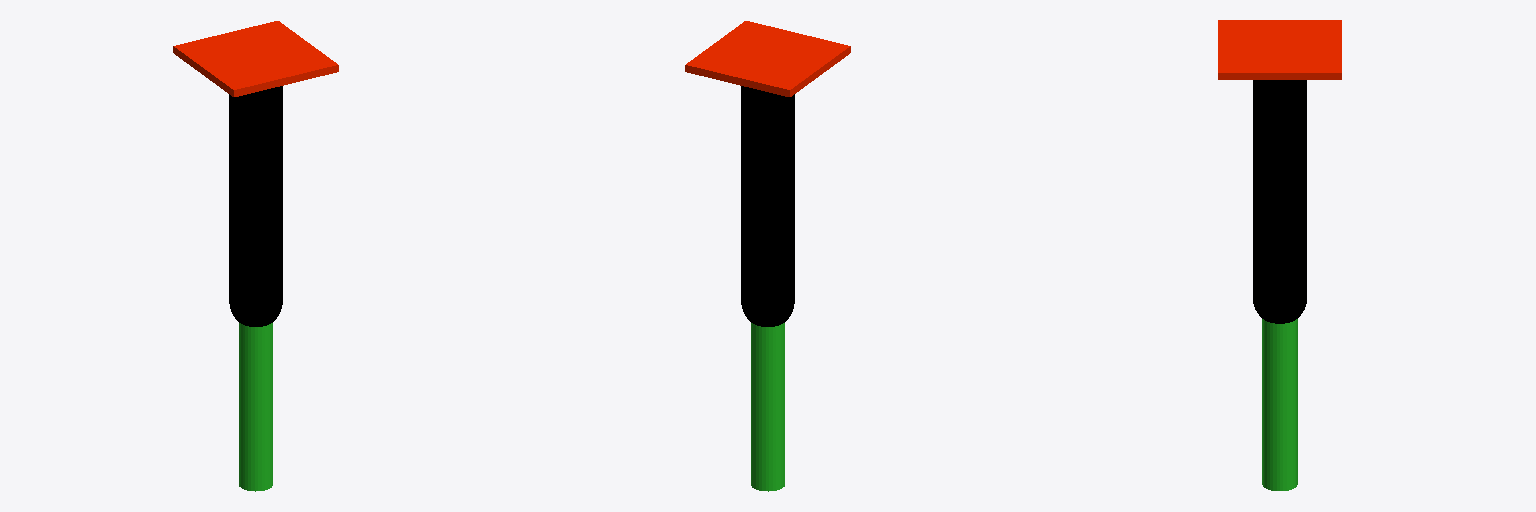
URDF robot description (x500_base):
<?xml version="1.0" ?>
<!-- =================================================================================== -->
<!-- |    This document was autogenerated by xacro from robot.urdf.xacro               | -->
<!-- |    EDITING THIS FILE BY HAND IS NOT RECOMMENDED                                 | -->
<!-- =================================================================================== -->
<robot name="x500_base">
  <!--................................ INERTIA MATRICES .............................. -->
  <material name="black">
    <color rgba="0.0 0.0 0.0 1.0"/>
  </material>
  <material name="blue">
    <color rgba="0.0 0.0 0.8 1.0"/>
  </material>
  <material name="green">
    <color rgba="0.0 0.8 0.0 1.0"/>
  </material>
  <material name="yellow">
    <color rgba="1.0 1.0 0.0 1.0"/>
  </material>
  <material name="dark_grey">
    <color rgba="0.2 0.2 0.2 1.0"/>
  </material>
  <material name="orange">
    <color rgba="1.0 0.2 0.0 1.0"/>
  </material>
  <material name="brown">
    <color rgba="0.5450980392156862 0.27058823529411763 0.07450980392156863 1.0"/>
  </material>
  <material name="red">
    <color rgba="0.8 0.0 0.0 1.0"/>
  </material>
  <material name="turquoise">
    <color rgba="0.25098039215686274 0.8784313725490196 0.8156862745098039 1.0"/>
  </material>
  <material name="purple">
    <color rgba="0.5019607843137255 0.0 0.5019607843137255 1.0"/>
  </material>
  <material name="white">
    <color rgba="1.0 1.0 1.0 1.0"/>
  </material>
  <material name="aluminium">
    <color rgba="0.5 0.5 0.5 1"/>
  </material>
  <material name="plastic">
    <color rgba="0.1 0.1 0.1 0.7"/>
  </material>
  <!-- Macro to declare ros2_control system -->
  <link name="base_link">
    <inertial>
      <mass value="2.0"/>
      <inertia ixx="0.02166666666666667" ixy="0.0" ixz="0.0" iyy="0.02166666666666667" iyz="0.0" izz="0.04000000000000001"/>
    </inertial>
    <visual name="base_link_visual">
      <origin rpy="0.0 0.0 3.141592654" xyz="0.0 0.0 0.025"/>
      <geometry>
        <mesh filename="package://darm/urdf/x500_base/meshes/NXP-HGD-CF.dae" scale="1 1 1"/>
      </geometry>
    </visual>
    <visual name="5010_motor_base_0">
      <origin rpy="0.0 0.0 -0.45" xyz="0.174 0.174 0.032"/>
      <geometry>
        <mesh filename="package://darm/urdf/x500_base/meshes/5010Base.dae" scale="1 1 1"/>
      </geometry>
    </visual>
    <visual name="5010_motor_base_1">
      <origin rpy="0.0 0.0 -0.45" xyz="-0.174 0.174 0.032"/>
      <geometry>
        <mesh filename="package://darm/urdf/x500_base/meshes/5010Base.dae" scale="1 1 1"/>
      </geometry>
    </visual>
    <visual name="5010_motor_base_2">
      <origin rpy="0.0 0.0 -0.45" xyz="0.174 -0.174 0.032"/>
      <geometry>
        <mesh filename="package://darm/urdf/x500_base/meshes/5010Base.dae" scale="1 1 1"/>
      </geometry>
    </visual>
    <visual name="5010_motor_base_3">
      <origin rpy="0.0 0.0 -0.45" xyz="-0.174 -0.174 0.032"/>
      <geometry>
        <mesh filename="package://darm/urdf/x500_base/meshes/5010Base.dae" scale="1 1 1"/>
      </geometry>
    </visual>
    <collision name="base_link_collision_0">
      <origin rpy="0.0 0.0 0.0" xyz="0.0 0.0 0.007"/>
      <geometry>
        <box size="0.35355339059327373 0.35355339059327373 0.05"/>
      </geometry>
    </collision>
    <collision name="base_link_collision_1">
      <origin rpy="-0.35 0.0 0.0" xyz="0.0 -0.098 -0.123"/>
      <geometry>
        <box size="0.015 0.015 0.21"/>
      </geometry>
    </collision>
    <collision name="base_link_collision_2">
      <origin rpy="0.35 0.0 0.0" xyz="0.0 0.098 -0.123"/>
      <geometry>
        <box size="0.015 0.015 0.21"/>
      </geometry>
    </collision>
    <collision name="base_link_collision_3">
      <origin rpy="0.0 0.0 0.0" xyz="0.0 -0.132 -0.2195"/>
      <geometry>
        <box size="0.25 0.015 0.015"/>
      </geometry>
    </collision>
    <collision name="base_link_collision_4">
      <origin rpy="0.0 0.0 0.0" xyz="0.0 0.132 -0.2195"/>
      <geometry>
        <box size="0.25 0.015 0.015"/>
      </geometry>
    </collision>
  </link>
  <!-- rotor links -->
  <link name="rotor_0">
    <inertial>
      <mass value="0.016076923076923075"/>
      <inertia ixx="3.8464910483993325e-07" ixy="0.0" ixz="0.0" iyy="2.6115851691700804e-05" iyz="0.0" izz="2.649858234714004e-05"/>
    </inertial>
    <visual name="rotor_0_visual">
      <origin rpy="0.0 0.0 0.0" xyz="-0.022 -0.14638461538461536 -0.016"/>
      <geometry>
        <mesh filename="package://darm/urdf/x500_base/meshes/1345_prop_ccw.stl" scale="0.8461538461538461 0.8461538461538461 0.8461538461538461"/>
      </geometry>
    </visual>
    <visual name="rotor_0_visual_motor_bell">
      <origin rpy="0.0 0.0 0.0" xyz="0.0 0.0 -0.032"/>
      <geometry>
        <mesh filename="package://darm/urdf/x500_base/meshes/5010Bell.dae" scale="1 1 1"/>
      </geometry>
    </visual>
    <collision name="rotor_0_collision">
      <origin rpy="0.0 0.0 0.0" xyz="0.0 0.0 0.0"/>
      <geometry>
        <box size="0.2792307692307692 0.016923076923076923 0.0008461538461538462"/>
      </geometry>
    </collision>
  </link>
  <link name="rotor_1">
    <inertial>
      <mass value="0.016076923076923075"/>
      <inertia ixx="3.8464910483993325e-07" ixy="0.0" ixz="0.0" iyy="2.6115851691700804e-05" iyz="0.0" izz="2.649858234714004e-05"/>
    </inertial>
    <visual name="rotor_1_visual">
      <origin rpy="0.0 0.0 0.0" xyz="-0.022 -0.14638461538461536 -0.016"/>
      <geometry>
        <mesh filename="package://darm/urdf/x500_base/meshes/1345_prop_ccw.stl" scale="0.8461538461538461 0.8461538461538461 0.8461538461538461"/>
      </geometry>
    </visual>
    <visual name="rotor_1_visual_motor_top">
      <origin rpy="0.0 0.0 0.0" xyz="0.0 0.0 -0.032"/>
      <geometry>
        <mesh filename="package://darm/urdf/x500_base/meshes/5010Bell.dae" scale="1 1 1"/>
      </geometry>
    </visual>
    <collision name="rotor_1_collision">
      <origin rpy="0.0 0.0 0.0" xyz="0.0 0.0 0.0"/>
      <geometry>
        <box size="0.2792307692307692 0.016923076923076923 0.0008461538461538462"/>
      </geometry>
    </collision>
  </link>
  <link name="rotor_2">
    <inertial>
      <mass value="0.016076923076923075"/>
      <inertia ixx="3.8464910483993325e-07" ixy="0.0" ixz="0.0" iyy="2.6115851691700804e-05" iyz="0.0" izz="2.649858234714004e-05"/>
    </inertial>
    <visual name="rotor_2_visual">
      <origin rpy="0.0 0.0 0.0" xyz="-0.022 -0.14638461538461536 -0.016"/>
      <geometry>
        <mesh filename="package://darm/urdf/x500_base/meshes/1345_prop_cw.stl" scale="0.8461538461538461 0.8461538461538461 0.8461538461538461"/>
      </geometry>
    </visual>
    <visual name="rotor_2_visual_motor_top">
      <origin rpy="0.0 0.0 0.0" xyz="0.0 0.0 -0.032"/>
      <geometry>
        <mesh filename="package://darm/urdf/x500_base/meshes/5010Bell.dae" scale="1 1 1"/>
      </geometry>
    </visual>
    <collision name="rotor_2_collision">
      <origin rpy="0.0 0.0 0.0" xyz="0.0 0.0 0.0"/>
      <geometry>
        <box size="0.2792307692307692 0.016923076923076923 0.0008461538461538462"/>
      </geometry>
    </collision>
  </link>
  <link name="rotor_3">
    <inertial>
      <mass value="0.016076923076923075"/>
      <inertia ixx="3.8464910483993325e-07" ixy="0.0" ixz="0.0" iyy="2.6115851691700804e-05" iyz="0.0" izz="2.649858234714004e-05"/>
    </inertial>
    <visual name="rotor_3_visual">
      <origin rpy="0.0 0.0 0.0" xyz="-0.022 -0.14638461538461536 -0.016"/>
      <geometry>
        <mesh filename="package://darm/urdf/x500_base/meshes/1345_prop_cw.stl" scale="0.8461538461538461 0.8461538461538461 0.8461538461538461"/>
      </geometry>
    </visual>
    <visual name="rotor_3_visual_motor_top">
      <origin rpy="0.0 0.0 0.0" xyz="0.0 0.0 -0.032"/>
      <geometry>
        <mesh filename="package://darm/urdf/x500_base/meshes/5010Bell.dae" scale="1 1 1"/>
      </geometry>
    </visual>
    <collision name="rotor_3_collision">
      <origin rpy="0.0 0.0 0.0" xyz="0.0 0.0 0.0"/>
      <geometry>
        <box size="0.2792307692307692 0.016923076923076923 0.0008461538461538462"/>
      </geometry>
    </collision>
  </link>
  <!-- Rotor joints -->
  <joint name="rotor_0_joint" type="revolute">
    <parent link="base_link"/>
    <child link="rotor_0"/>
    <origin rpy="0.0 0.0 0.0" xyz="0.174 0.174 0.06"/>
    <axis xyz="0 0 1"/>
    <limit effort="10.0" lower="-1e+16" upper="1e+16" velocity="100.0"/>
  </joint>
  <joint name="rotor_1_joint" type="revolute">
    <parent link="base_link"/>
    <child link="rotor_1"/>
    <origin rpy="0.0 0.0 0.0" xyz="-0.174 0.174 0.06"/>
    <axis xyz="0 0 1"/>
    <limit effort="10.0" lower="-1e+16" upper="1e+16" velocity="100.0"/>
  </joint>
  <joint name="rotor_2_joint" type="revolute">
    <parent link="base_link"/>
    <child link="rotor_2"/>
    <origin rpy="0.0 0.0 0.0" xyz="0.174 -0.174 0.06"/>
    <axis xyz="0 0 1"/>
    <limit effort="10.0" lower="-1e+16" upper="1e+16" velocity="100.0"/>
  </joint>
  <joint name="rotor_3_joint" type="revolute">
    <parent link="base_link"/>
    <child link="rotor_3"/>
    <origin rpy="0.0 0.0 0.0" xyz="-0.174 -0.174 0.06"/>
    <axis xyz="0 0 1"/>
    <limit effort="10.0" lower="-1e+16" upper="1e+16" velocity="100.0"/>
  </joint>
  <!-- ARM  -->
  <link name="arm_link">
    <visual>
      <geometry>
        <box size="0.03 0.03 0.002"/>
      </geometry>
      <material name="orange"/>
    </visual>
    <collision>
      <geometry>
        <box size="0.03 0.03 0.002"/>
      </geometry>
    </collision>
    <inertial>
      <mass value="0.100"/>
      <origin rpy="0 0 0" xyz="0 0 0"/>
      <inertia ixx="7.533333333333334e-06" ixy="0" ixz="0" iyy="7.533333333333334e-06" iyz="0" izz="1.5e-05"/>
    </inertial>
  </link>
  <joint name="arm_base_fixed_joint" type="fixed">
    <parent link="base_link"/>
    <child link="arm_link"/>
    <origin rpy="3.141592653589793 0 0" xyz="0 0 0"/>
  </joint>
  <link name="link1">
    <visual>
      <geometry>
        <cylinder length="0.0666" radius="0.00666"/>
      </geometry>
      <material name="black">
        <color rgba="0.0 0.0 0.0 1"/>
      </material>
    </visual>
    <inertial>
      <mass value="0.1"/>
      <origin rpy="0 0 0" xyz="0 0 0"/>
      <inertia ixx="3.807189e-05" ixy="0" ixz="0" iyy="3.807189e-05" iyz="0" izz="2.21778e-06"/>
    </inertial>
  </link>
  <!-- Joint1: placed at the end of arm_link (z = 0.002/2 = 0.001) -->
  <joint name="joint1" type="revolute">
    <parent link="arm_link"/>
    <child link="link1"/>
    <origin rpy="0 0 0" xyz="0 0 0.033"/>
    <axis xyz="0 0 1"/>
    <limit effort="1" lower="-3.14" upper="3.14" velocity="1"/>
  </joint>
  <link name="link_sphere">
    <visual>
      <geometry>
        <sphere radius="0.00666"/>
      </geometry>
      <material name="black">
        <color rgba="0 0 0 1"/>
      </material>
    </visual>
    <inertial>
      <mass value="0.1"/>
      <origin rpy="0 0 0" xyz="0 0 0"/>
      <inertia ixx="1.7742240000000001e-06" ixy="0" ixz="0" iyy="1.7742240000000001e-06" iyz="0" izz="1.7742240000000001e-06"/>
    </inertial>
  </link>
  <!-- Joint2: placed at the end of link1 (z = 0.0666/2 = 0.0333) -->
  <joint name="joint2" type="revolute">
    <parent link="link1"/>
    <child link="link_sphere"/>
    <origin rpy="0 0 0" xyz="0 0 0.0333"/>
    <axis xyz="1 0 0"/>
    <limit effort="1" lower="-3.14" upper="3.14" velocity="1"/>
  </joint>
  <link name="link2">
    <visual>
      <geometry>
        <cylinder length="0.05" radius="0.00433"/>
      </geometry>
      <material name="green">
        <color rgba="0.2 0.8 0.2 1"/>
      </material>
    </visual>
    <inertial>
      <mass value="0.1"/>
      <origin rpy="0 0 0" xyz="0 0 0"/>
      <inertia ixx="2.130205583333334e-05" ixy="0" ixz="0" iyy="2.130205583333334e-05" iyz="0" izz="9.37445e-07"/>
    </inertial>
  </link>
  <!-- Joint3: placed at the end of link_sphere (z = 0.00666) -->
  <joint name="joint3" type="fixed">
    <parent link="link_sphere"/>
    <child link="link2"/>
    <origin rpy="0 0 0" xyz="0 0 0.025"/>
  </joint>
  <!-- control tags -->
  <ros2_control name="GazeboSimSystem" type="system">
    <hardware>
      <plugin>gz_ros2_control/GazeboSimSystem</plugin>
    </hardware>
    <ros2_control_block joint_names="joint1"/>
    <ros2_control_block joint_names="joint2"/>
  </ros2_control>
  <!--................................ INERTIA MATRICES .............................. -->
  <!-- Macro to declare ros2_control system -->
  <plugin filename="gz_ros2_control-system" name="gz_ros2_control::GazeboSimROS2ControlPlugin">
    <robot_param>robot_description</robot_param>
    <robot_param_node>robot_state_publisher</robot_param_node>
    <parameters>package://darm/config/arm_control.yaml</parameters>
  </plugin>
</robot>

--- Facts derived from the render (not from the file) ---
3 views of the same robot in one strip: view 1: azimuth 30°, elevation 25°; view 2: azimuth 150°, elevation 25°; view 3: azimuth 270°, elevation 25° (orthographic).
Model x500_base with 9 links and 8 joints (6 revolute, 2 fixed), rooted at base_link, posed every joint at zero.
Links seen in each view (by area): view 1: link1, arm_link, link2, link_sphere; view 2: link1, arm_link, link2, link_sphere; view 3: link1, arm_link, link2, link_sphere.
Boxes of the visible links, x1,y1,x2,y2 form: link1: (229, 86, 282, 312); arm_link: (173, 21, 338, 96); link2: (239, 323, 272, 491); link_sphere: (229, 303, 282, 326); link1: (741, 86, 794, 312); arm_link: (685, 21, 850, 96); link2: (751, 323, 784, 491); link_sphere: (741, 303, 794, 326); link1: (1253, 80, 1306, 308); arm_link: (1218, 20, 1341, 79); link2: (1262, 319, 1297, 490); link_sphere: (1253, 300, 1306, 323).
Bounding box of the posed robot: 0.03 × 0.03 × 0.1173 m (x, y, z).
Meshes: 5 distinct files referenced, 0 mesh visuals loaded (none loaded); not drawn: 13 (file found but could not be loaded).